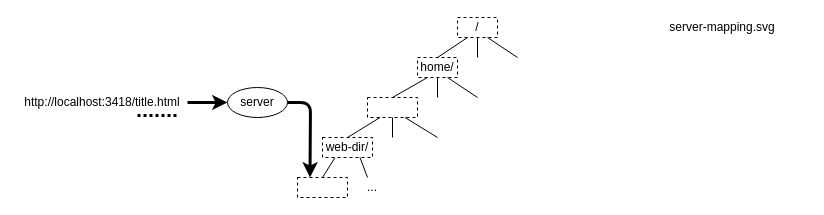
Image size: 824x215. Some labels were removed from this diagram. Each missing label, with the centre of its shape:
aturing/: the point at 392,107
title.html: the point at 322,187
